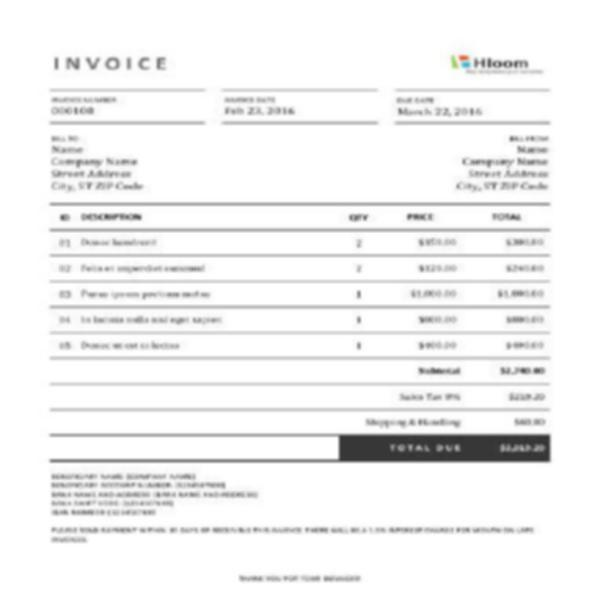test: (49, 69, 551, 523)
